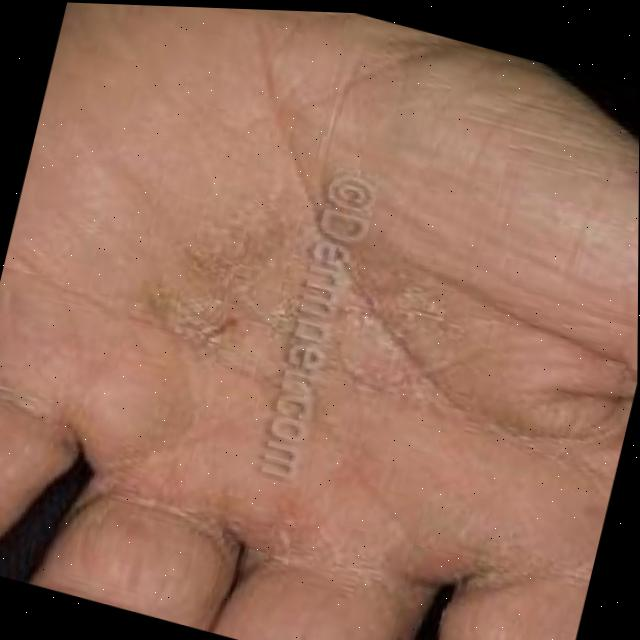Eczema: (122, 188, 461, 428)
